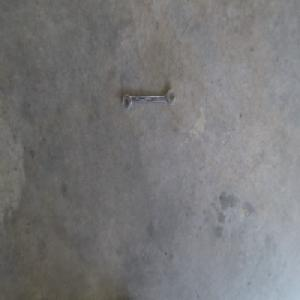Wrench: (122, 89, 175, 110)
